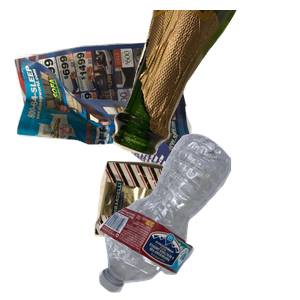glass: (111, 10, 300, 158)
paper: (12, 31, 196, 204)
plastic: (96, 131, 300, 300)
trash: (92, 158, 277, 300)
